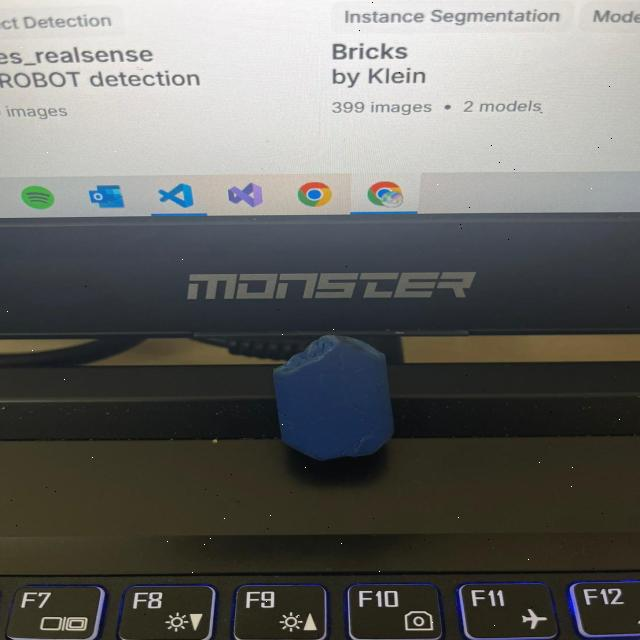eraser: (260, 321, 408, 479)
